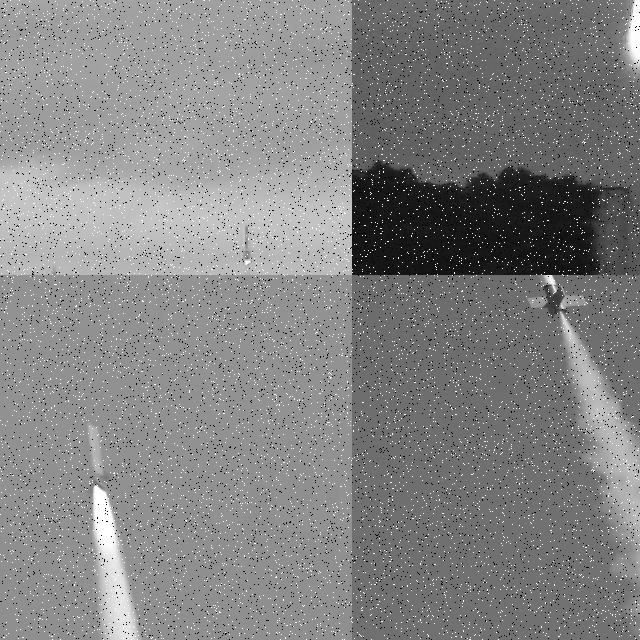Rocket: (481, 275, 588, 319), (85, 423, 111, 490), (242, 224, 254, 260)
